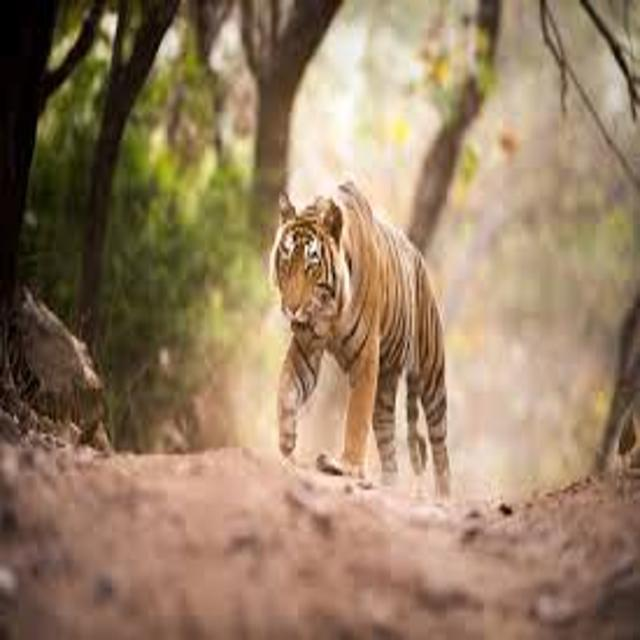Tiger: (249, 173, 514, 496)
